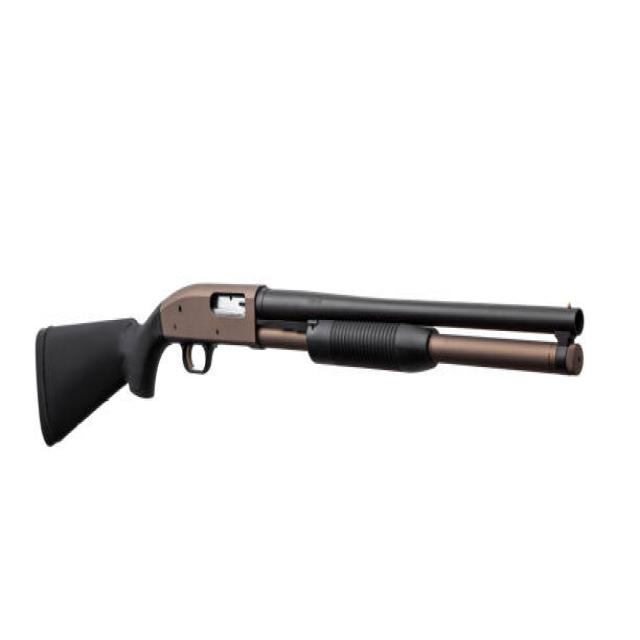firearm: (36, 284, 585, 448)
